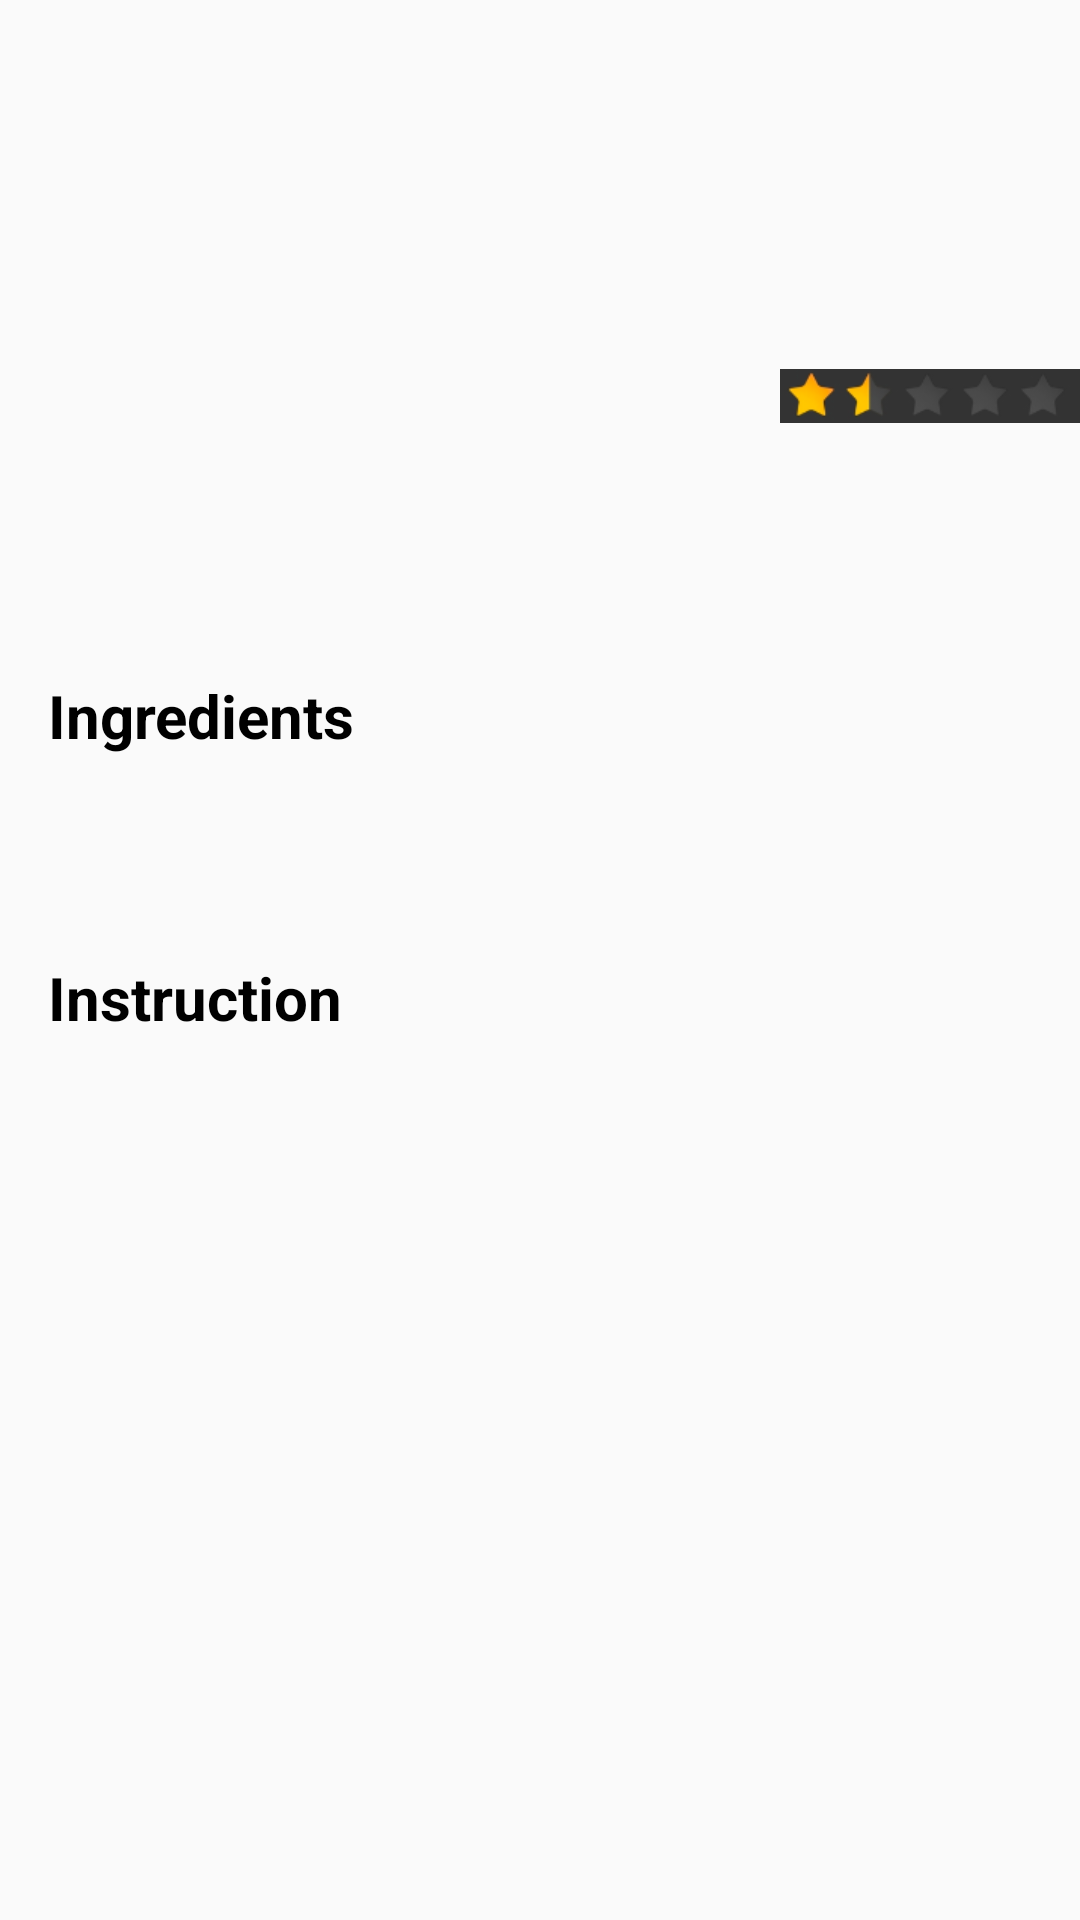

Icons on this 1080px x 1920px Android screen, each with its box as {"x1": x1, "y1": y1, "x2": x2, "y2": y2}:
ratin: {"x1": 780, "y1": 369, "x2": 1080, "y2": 423}
